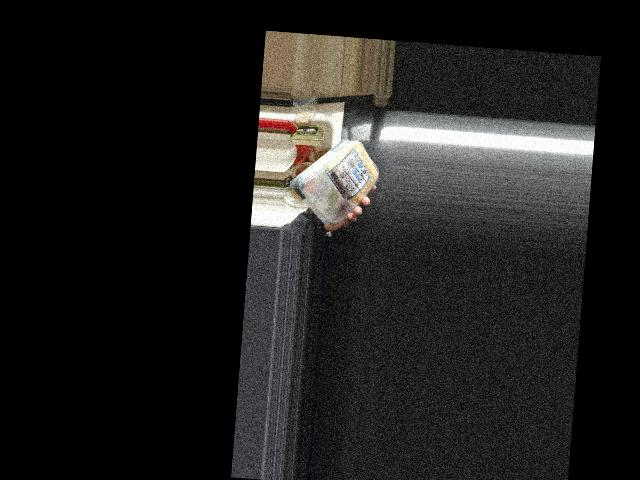cheese: (299, 135, 376, 227)
